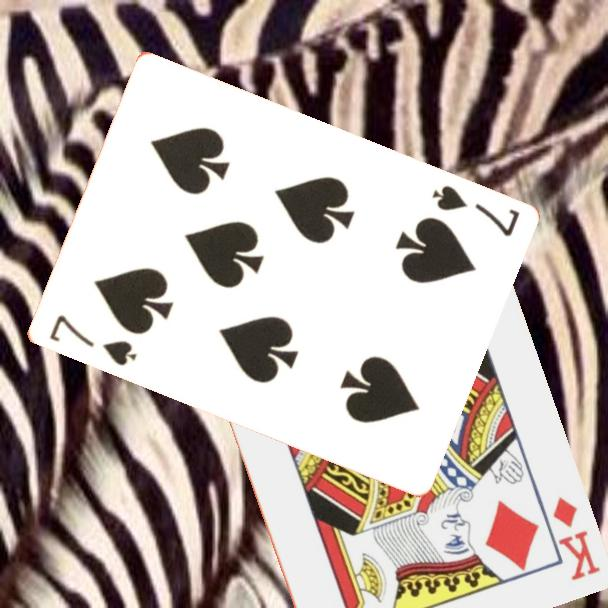d13: (549, 492, 603, 583)
s07: (45, 311, 139, 369), (428, 182, 522, 240)
